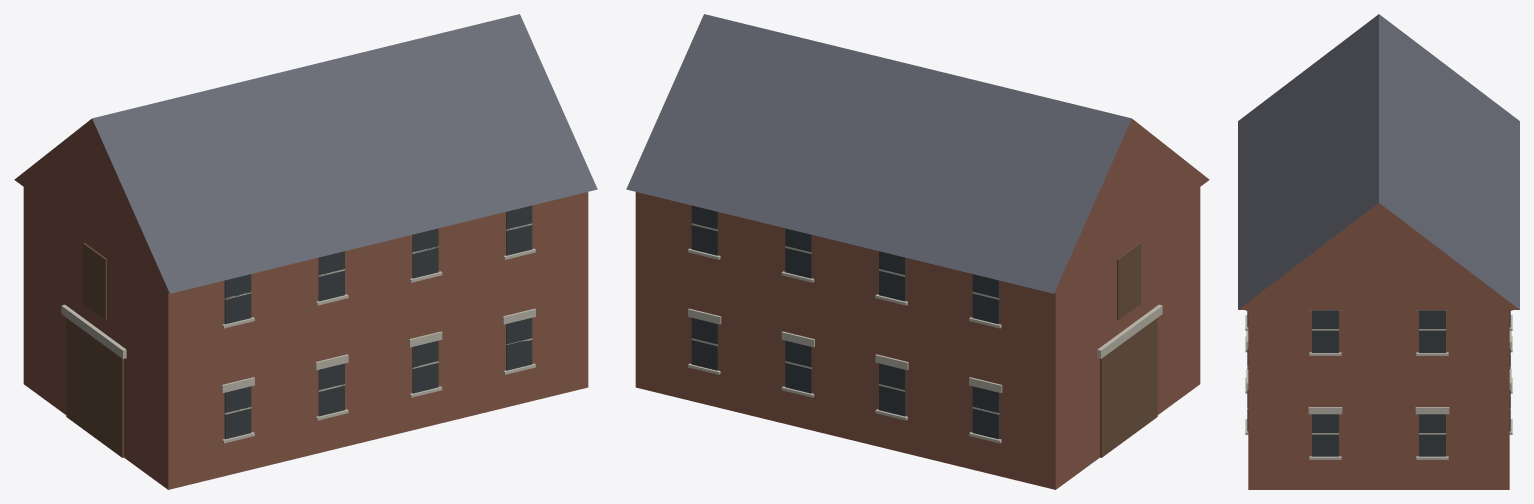
File: house_1931_indiana_rear_dwelling__draft_1904.glb
The picture shows the model from 3 angles, left to right: view 1: azimuth 30°, elevation 25°; view 2: azimuth 150°, elevation 25°; view 3: azimuth 270°, elevation 25°; orthographic projection. The views are drawn at different scales.
Parts seen in each view (by area): view 1: house_1931_indiana_rear_dwelling__draft_1904; view 2: house_1931_indiana_rear_dwelling__draft_1904; view 3: house_1931_indiana_rear_dwelling__draft_1904.
Part boxes in pixels (box(x1,y1,x2,y2)): house_1931_indiana_rear_dwelling__draft_1904: box(14, 14, 597, 489); house_1931_indiana_rear_dwelling__draft_1904: box(626, 14, 1209, 489); house_1931_indiana_rear_dwelling__draft_1904: box(1238, 14, 1519, 489).
Size of the model in its own units: 13.24 by 9.45 by 8.35.
